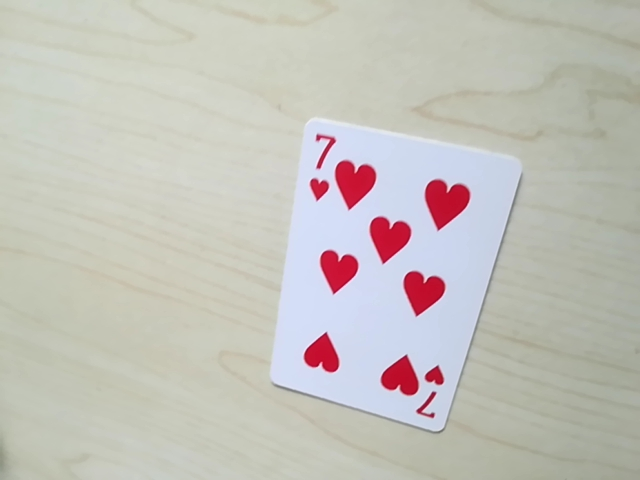hx 7: (402, 378, 449, 427), (304, 122, 345, 168)
